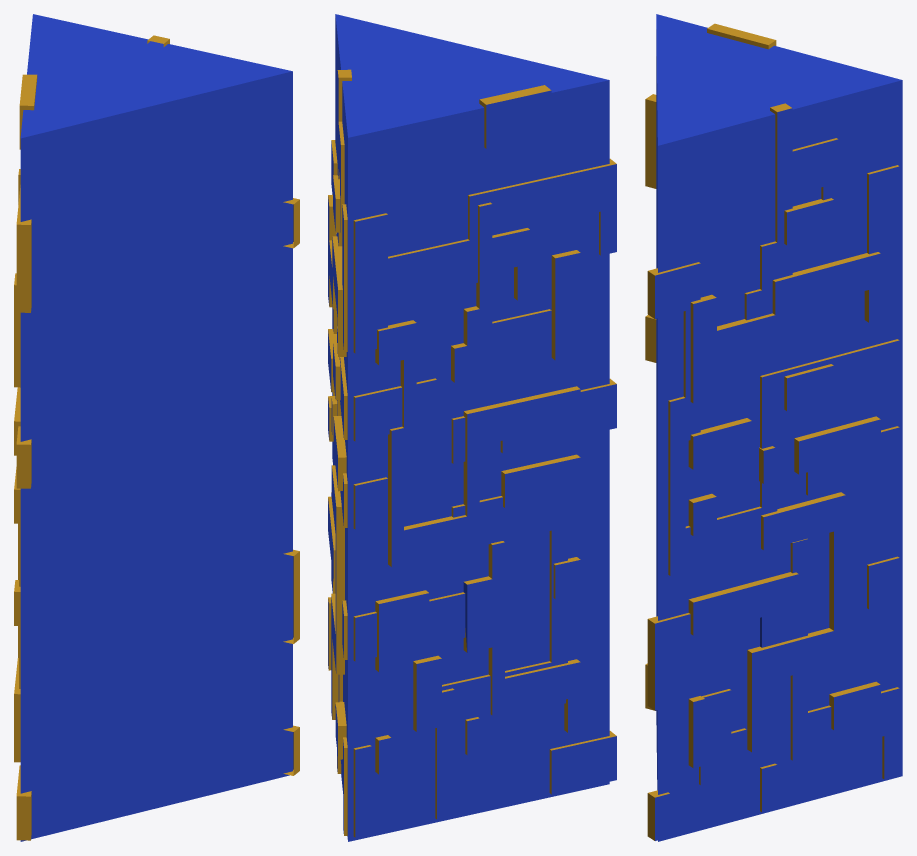
Rendered from new pillar modern.fbx.
3 views of the same model, side by side, from view 1: azimuth 30°, elevation 25°; view 2: azimuth 150°, elevation 25°; view 3: azimuth 270°, elevation 25° (orthographic).
Parts seen in each view (by area): view 1: Plane.002; view 2: Plane.002; view 3: Plane.002.
Boxes of the visible parts, x1=… form: Plane.002: x1=14, y1=14, x2=299, y2=841; Plane.002: x1=328, y1=14, x2=616, y2=841; Plane.002: x1=645, y1=14, x2=902, y2=841.
Size of the model in its own units: 1028 by 2444 by 814.
